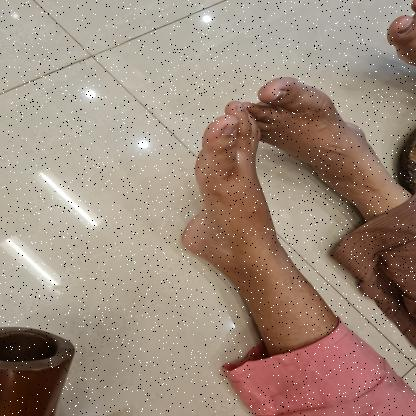leg: (164, 100, 340, 348), (233, 71, 416, 217)
